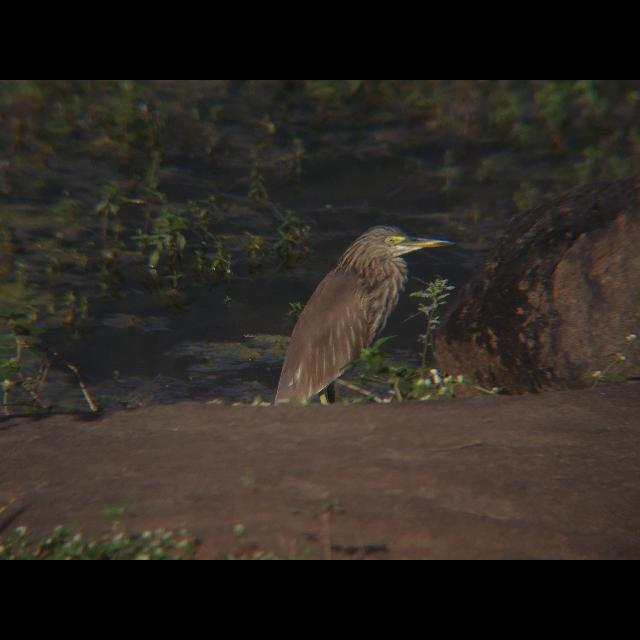heron: (274, 223, 450, 411)
